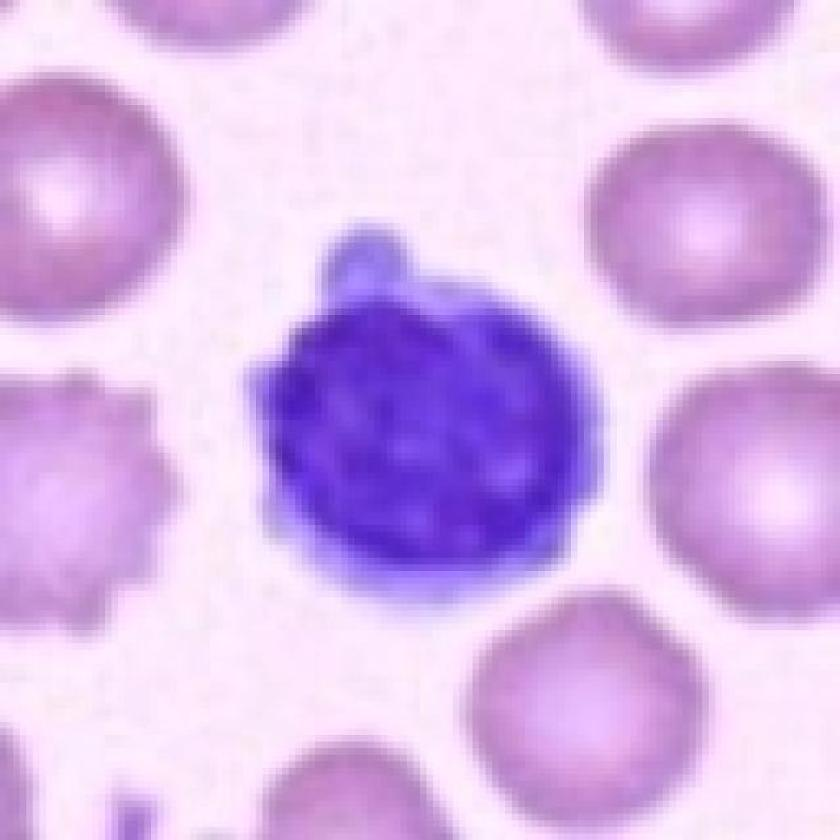lymphocyte: (241, 204, 614, 618)
